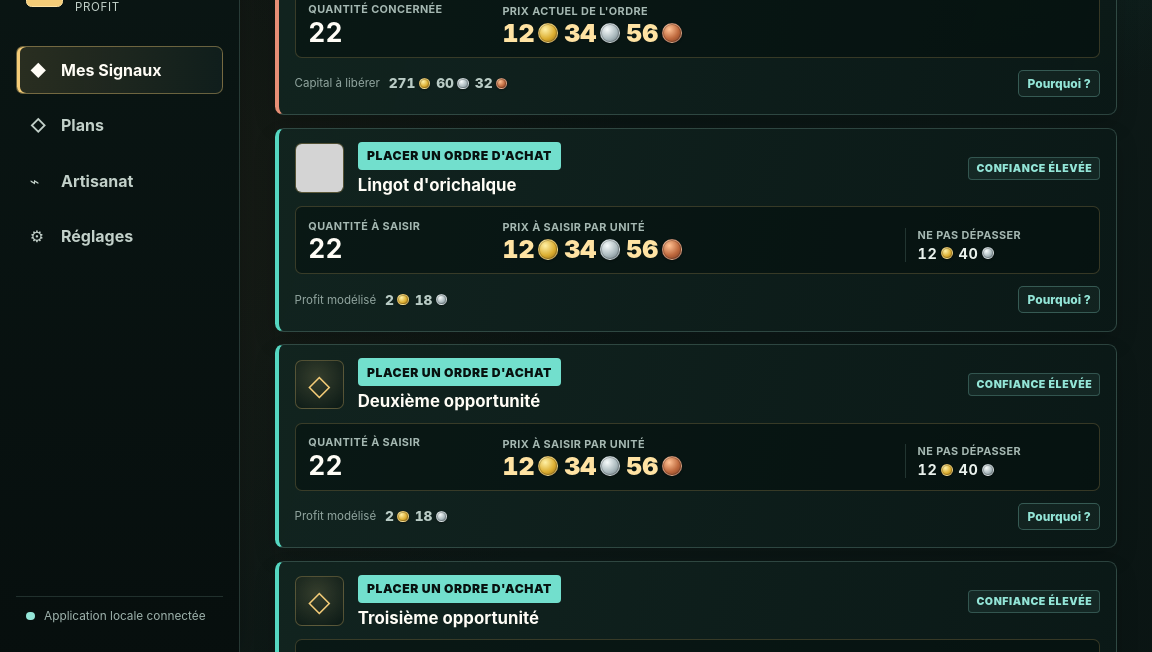
Mes Signaux MVP › renders structured French explanations without leaking backend English reason copy
(page scrolled)
Click the 2nd heading "Pourquoi ?".
click(1059, 300)  # box 1018,286 -> 1100,313
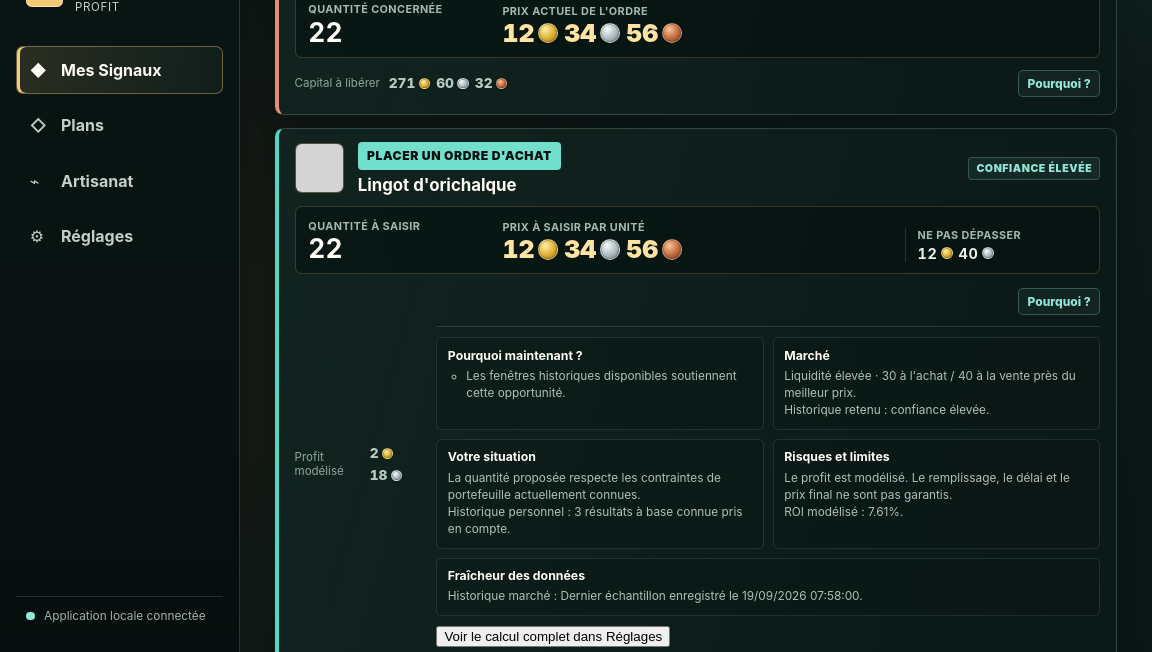
Expected: the heading "Pourquoi maintenant ?" is shown, 448,348 -> 583,363
Expected: the list item "Les fenêtres historiques disponibles soutiennent cette opportunité." is shown, 466,368 -> 753,402
Expected: the text "Historique personnel : 3 résultats à base connue" is shown, 448,505 -> 742,536
